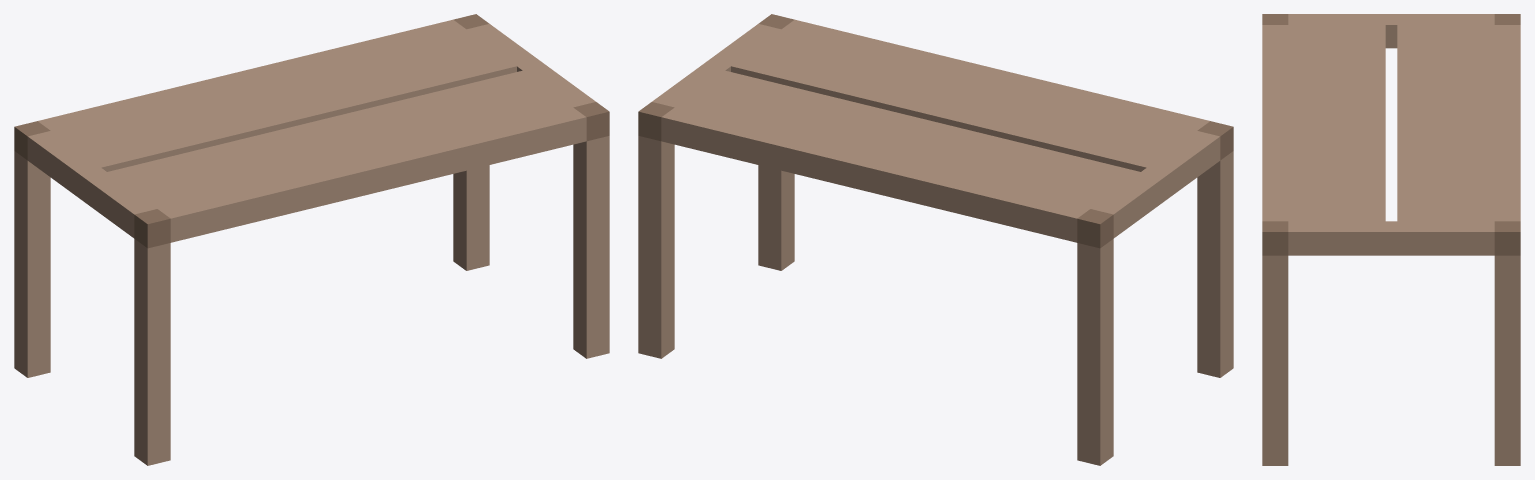
File: SM_Middle_Table_01.fbx
3 views of the same model, side by side, from view 1: azimuth 30°, elevation 25°; view 2: azimuth 150°, elevation 25°; view 3: azimuth 270°, elevation 25° (orthographic). The views are drawn at different scales.
Parts seen in each view (by area): view 1: pCube11; view 2: pCube11; view 3: pCube11.
Boxes of the visible parts, x1,y1,x2,y2 form: pCube11: [14, 14, 609, 465]; pCube11: [638, 14, 1233, 465]; pCube11: [1262, 14, 1520, 465].
Bounding box in the file's own units: 200 × 100 × 100.
